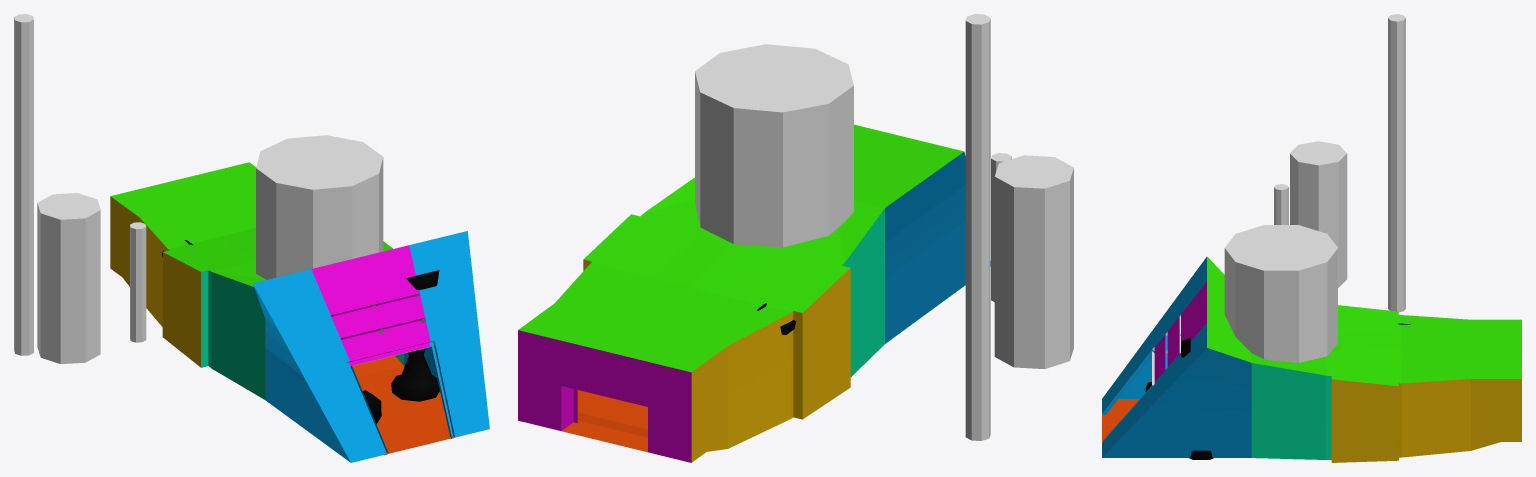
Rendered from 2gamej2026 (1).fbx.
3 renders of one model, left to right at view 1: azimuth 30°, elevation 25°; view 2: azimuth 150°, elevation 25°; view 3: azimuth 270°, elevation 25°, orthographic. The views are drawn at different scales.
Parts seen in each view (by area): view 1: Room.001, Cylinder.004, Cylinder.001, Cylinder.002, Pillar.002, Cylinder; view 2: Room.001, Cylinder.004, Cylinder.001, Cylinder.002, Cylinder; view 3: Room.001, Cylinder.004, Cylinder.001, Cylinder.002, Cylinder.
Part boxes in pixels (x1,y1,x2,y2): Room.001: (110, 162, 489, 462); Cylinder.004: (256, 135, 383, 279); Cylinder.001: (37, 193, 100, 363); Cylinder.002: (14, 14, 33, 355); Pillar.002: (391, 270, 439, 401); Cylinder: (130, 222, 146, 342); Room.001: (518, 124, 990, 462); Cylinder.004: (695, 44, 853, 247); Cylinder.001: (994, 155, 1073, 369); Cylinder.002: (965, 14, 990, 440); Cylinder: (991, 153, 1011, 301); Room.001: (1102, 256, 1521, 462); Cylinder.004: (1224, 225, 1337, 362); Cylinder.001: (1290, 141, 1347, 287); Cylinder.002: (1388, 14, 1405, 312); Cylinder: (1274, 184, 1288, 224).
Size of the model in its own units: 645 by 614 by 740.
